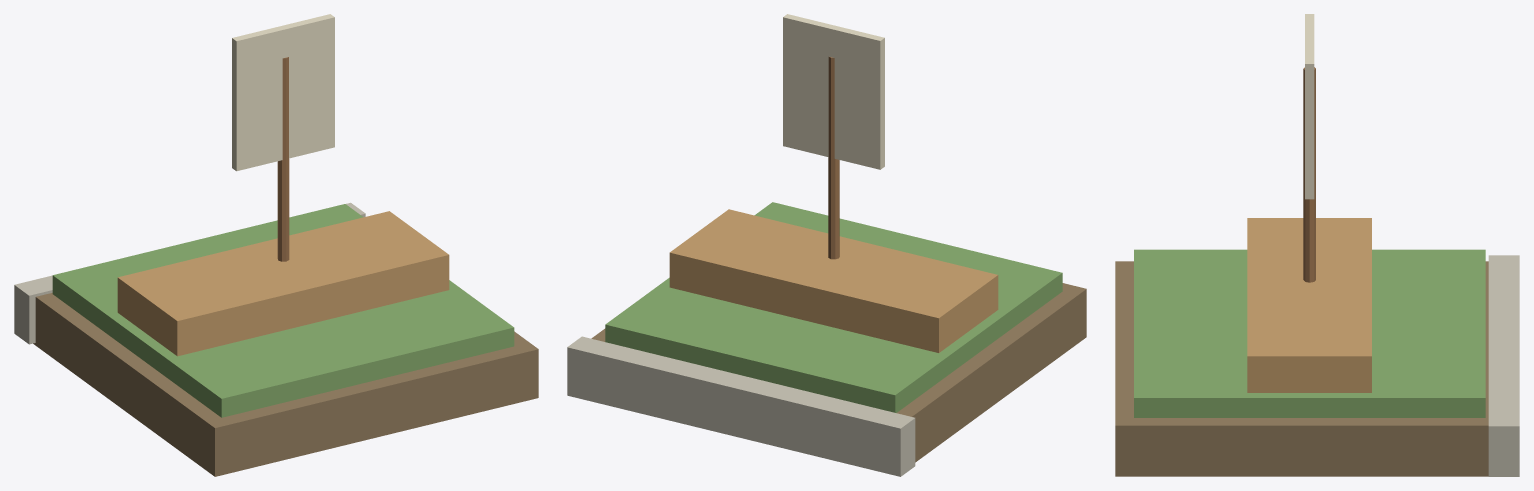
Rendered from 24_ThuyenNho.glb.
3 views of the same model, side by side, from view 1: azimuth 30°, elevation 25°; view 2: azimuth 150°, elevation 25°; view 3: azimuth 270°, elevation 25° (orthographic). The views are drawn at different scales.
Parts seen in each view (by area): view 1: grass, soil, hull, sail, mast, border; view 2: grass, hull, border, sail, soil, mast; view 3: grass, soil, hull, border, sail, mast.
Boxes of the visible parts, <box> form: grass: <box>52,204,514,417</box>; soil: <box>33,293,538,476</box>; hull: <box>117,211,449,356</box>; sail: <box>232,14,334,171</box>; mast: <box>277,57,289,261</box>; border: <box>14,202,365,344</box>; grass: <box>605,202,1062,412</box>; hull: <box>669,209,998,352</box>; border: <box>567,336,915,476</box>; sail: <box>783,14,884,169</box>; soil: <box>591,283,1086,462</box>; mast: <box>828,56,839,259</box>; grass: <box>1134,249,1485,417</box>; soil: <box>1115,261,1488,476</box>; hull: <box>1247,218,1371,392</box>; border: <box>1488,255,1519,476</box>; sail: <box>1305,14,1314,199</box>; mast: <box>1303,67,1315,282</box>.
Size of the model in its own units: 1.3 by 1.26 by 1.3.
